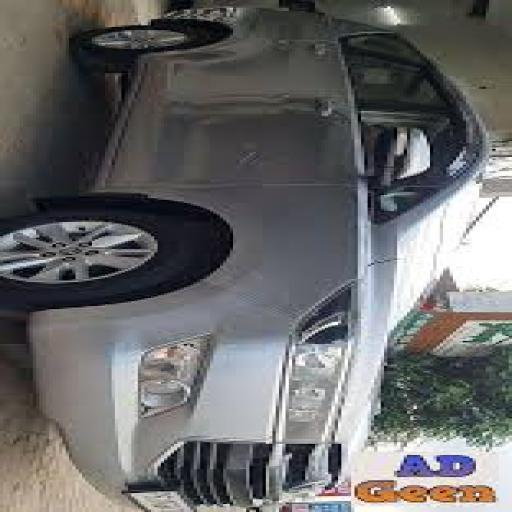car: (36, 5, 446, 512)
